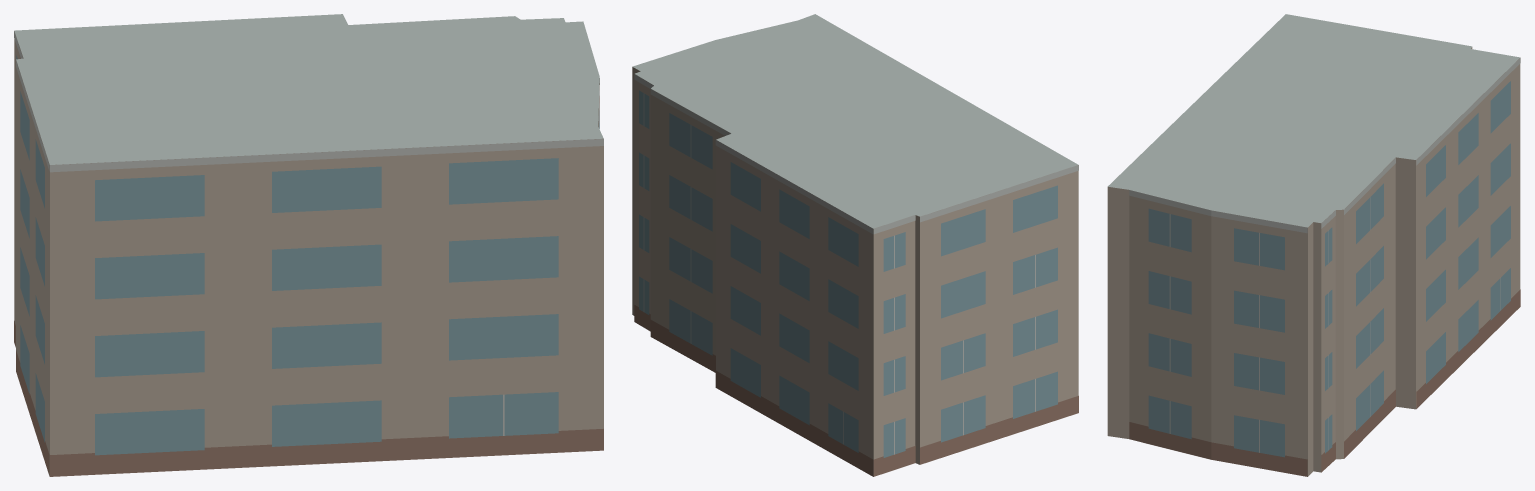
The model's file is survey-upis-32806636.glb.
3 renders of one model, left to right at view 1: azimuth 30°, elevation 25°; view 2: azimuth 150°, elevation 25°; view 3: azimuth 270°, elevation 25°, orthographic. The views are drawn at different scales.
Visible parts, largest first — view 1: survey-upis-32806636.tmp; view 2: survey-upis-32806636.tmp; view 3: survey-upis-32806636.tmp.
Boxes of the visible parts, x1,y1,x2,y2 form: survey-upis-32806636.tmp: (14,14,603,476); survey-upis-32806636.tmp: (632,14,1078,476); survey-upis-32806636.tmp: (1107,14,1520,476).
Bounding box in the file's own units: 19.21 × 10.45 × 15.7.
